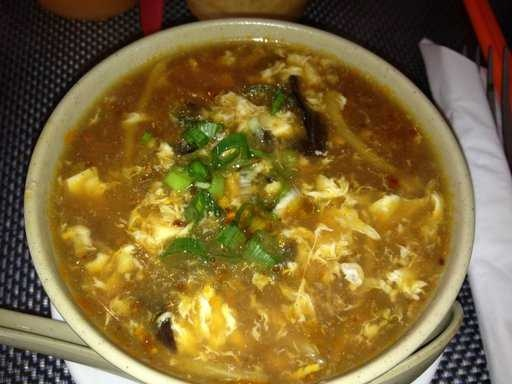soup: (38, 52, 476, 375)
